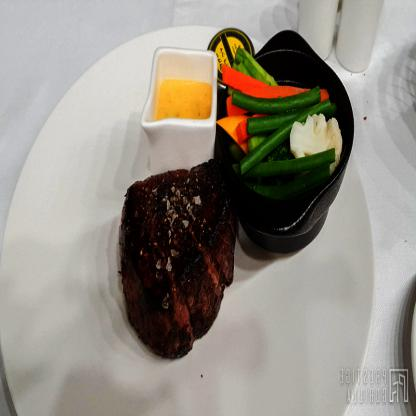Carne: (120, 144, 228, 352)
